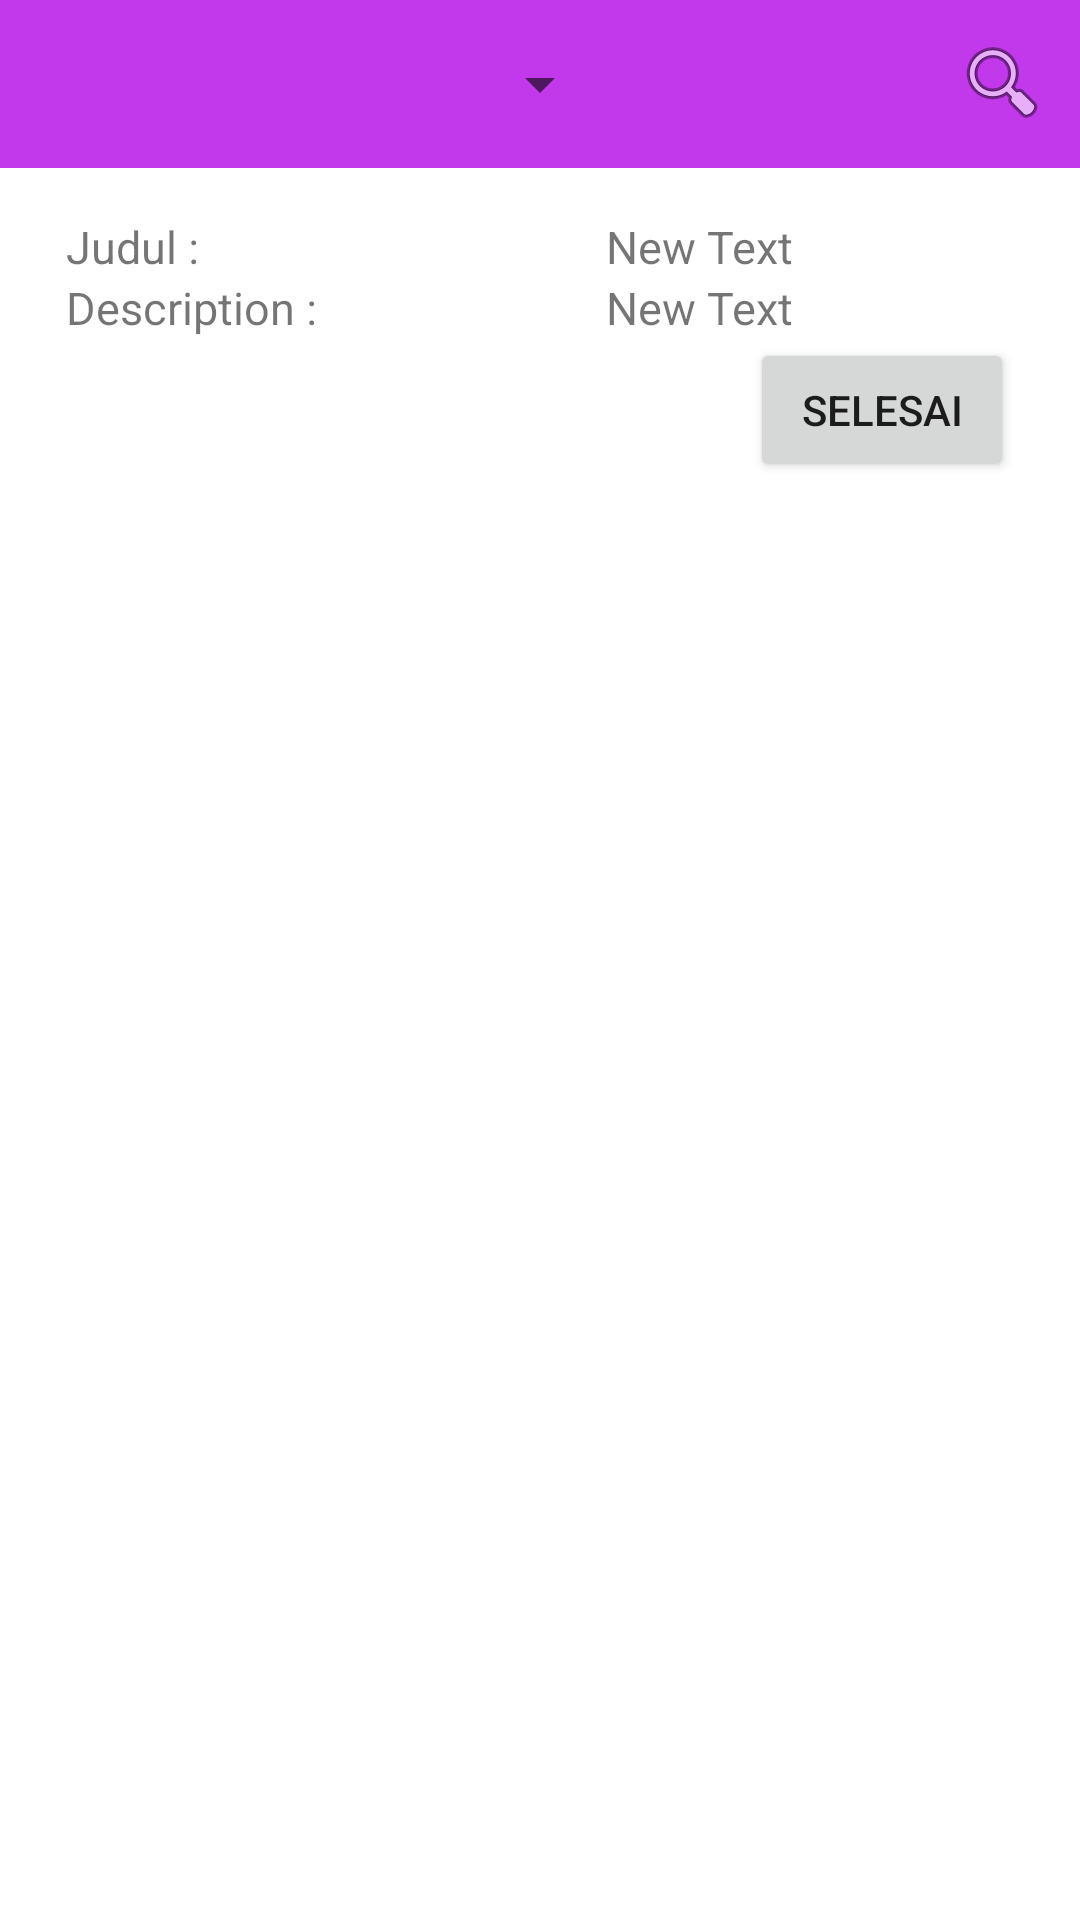

Where to tap for icons on this 1080*1920 app screen, as (x=x, y=y):
search: (x=1002, y=82)
